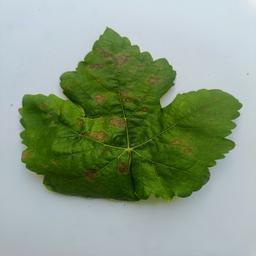Powdery-Mildew: (100, 48, 133, 68)
